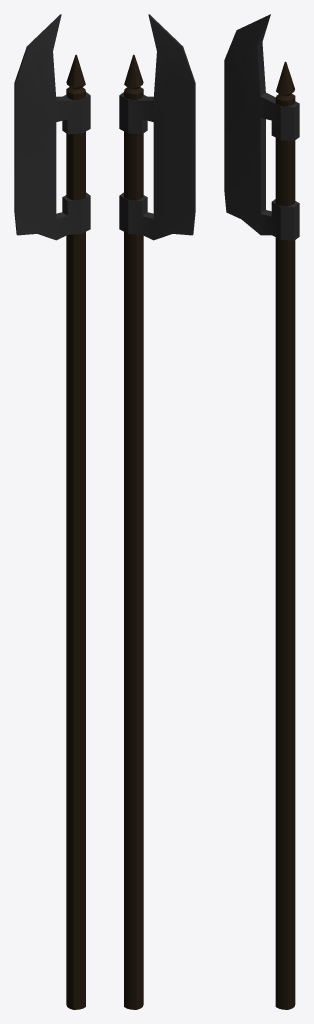
The model's file is SD2wr_glaive_drf.fbx.
3 views of the same model, side by side, from view 1: azimuth 30°, elevation 25°; view 2: azimuth 150°, elevation 25°; view 3: azimuth 330°, elevation 25° (orthographic).
Visible parts, largest first — view 1: SD2wr_glaive_drf; view 2: SD2wr_glaive_drf; view 3: SD2wr_glaive_drf.
Part boxes in pixels (x1=…): SD2wr_glaive_drf: x1=14, y1=14, x2=90, y2=1009; SD2wr_glaive_drf: x1=119, y1=14, x2=195, y2=1009; SD2wr_glaive_drf: x1=224, y1=14, x2=299, y2=1009.
Bounding box in the file's own units: 17.9 × 4.49 × 234.
